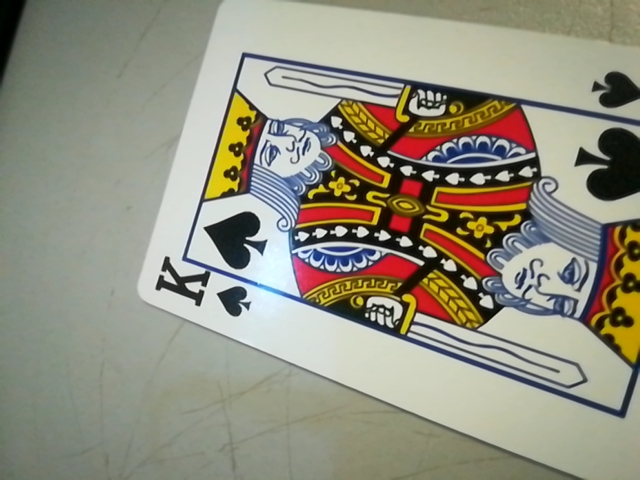ht k: (131, 247, 261, 328)
